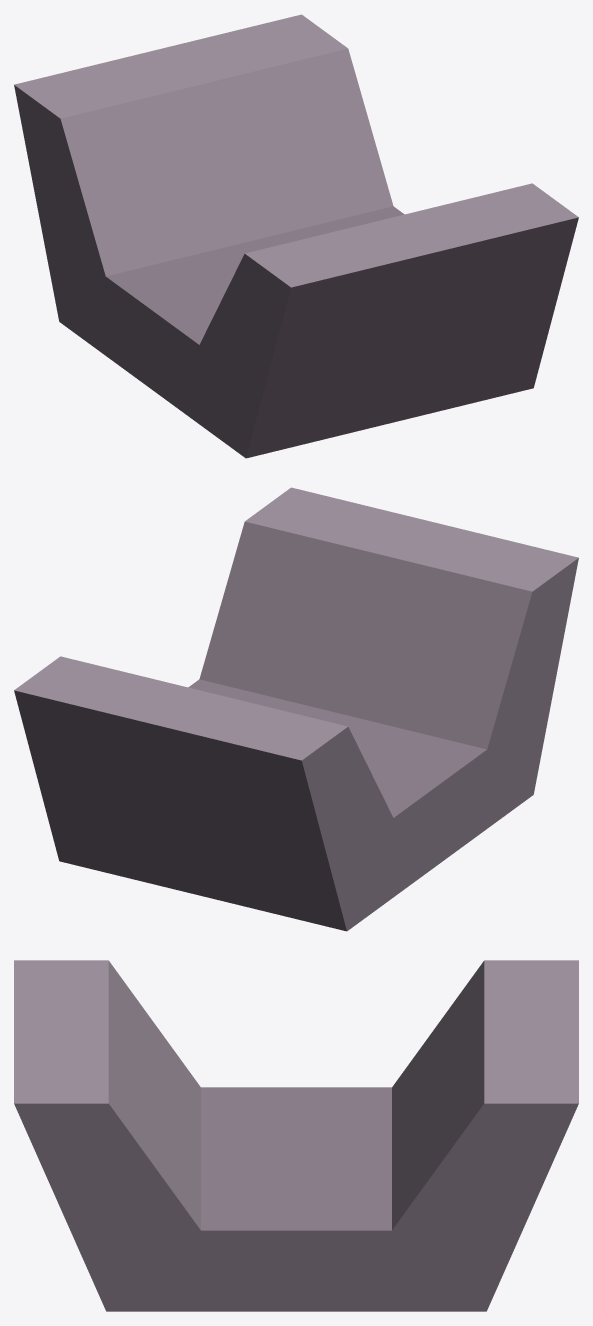
Rendered from Flute_Holder.fbx.
3 views of the same model, one above another, from view 1: azimuth 30°, elevation 25°; view 2: azimuth 150°, elevation 25°; view 3: azimuth 270°, elevation 25° (orthographic).
Visible parts, largest first — view 1: Flute_Holder; view 2: Flute_Holder; view 3: Flute_Holder.
Boxes of the visible parts, x1=… form: Flute_Holder: x1=14, y1=14, x2=578, y2=458; Flute_Holder: x1=14, y1=487, x2=578, y2=931; Flute_Holder: x1=14, y1=960, x2=578, y2=1311.
Size of the model in its own units: 0.00261 by 0.00177 by 0.00436.
Materials: 1 (1 with a texture image).
